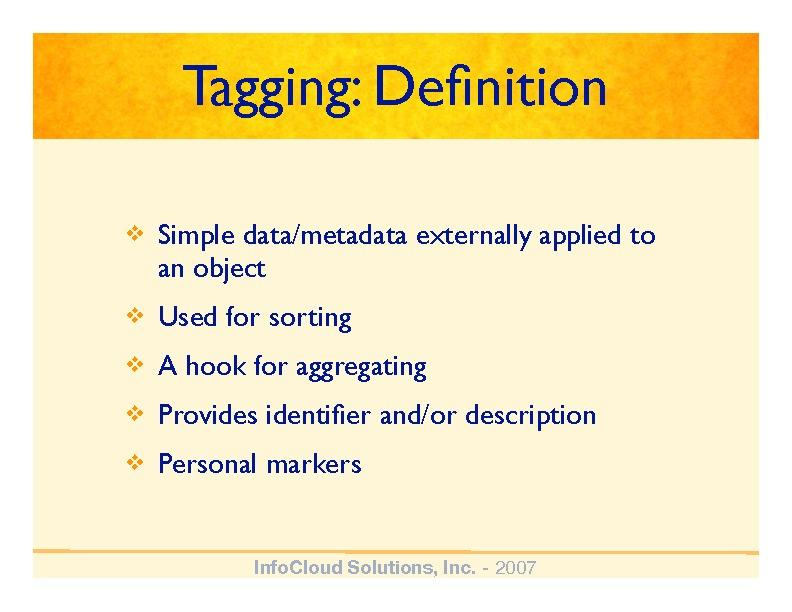paragraph: (152, 207, 677, 506)
title: (185, 39, 635, 138)
